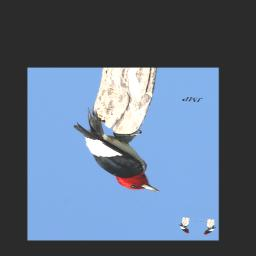Woodpecker: (61, 106, 175, 193)
